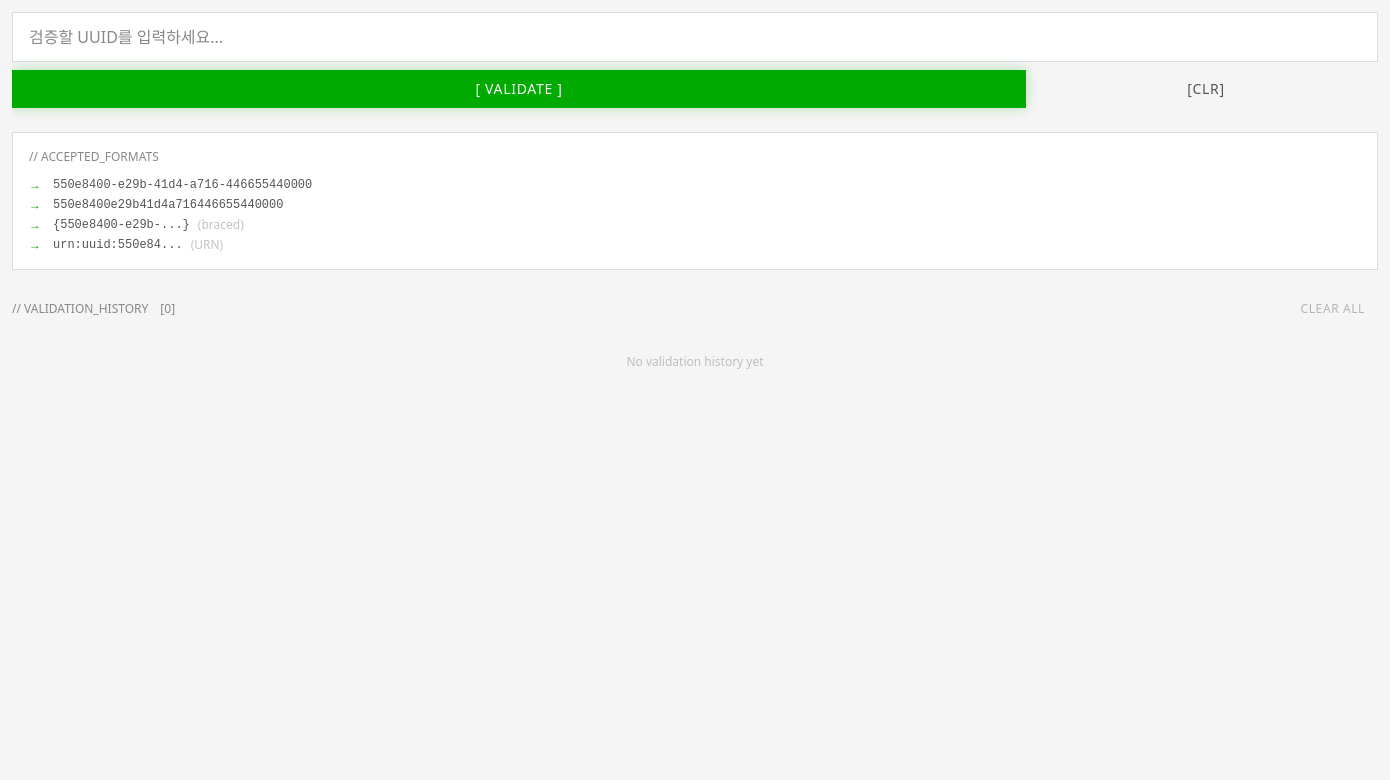
UuidValidator › 유효하지 않은 UUID 입력 후 검증 시 [INVALID] 상태를 표시해야 함
The width and height of the screenshot is (1390, 780).
Type "invalid-uuid" into the field with test id "uuid-input". click: (695, 37)
box: x1=12 y1=12 x2=1378 y2=62
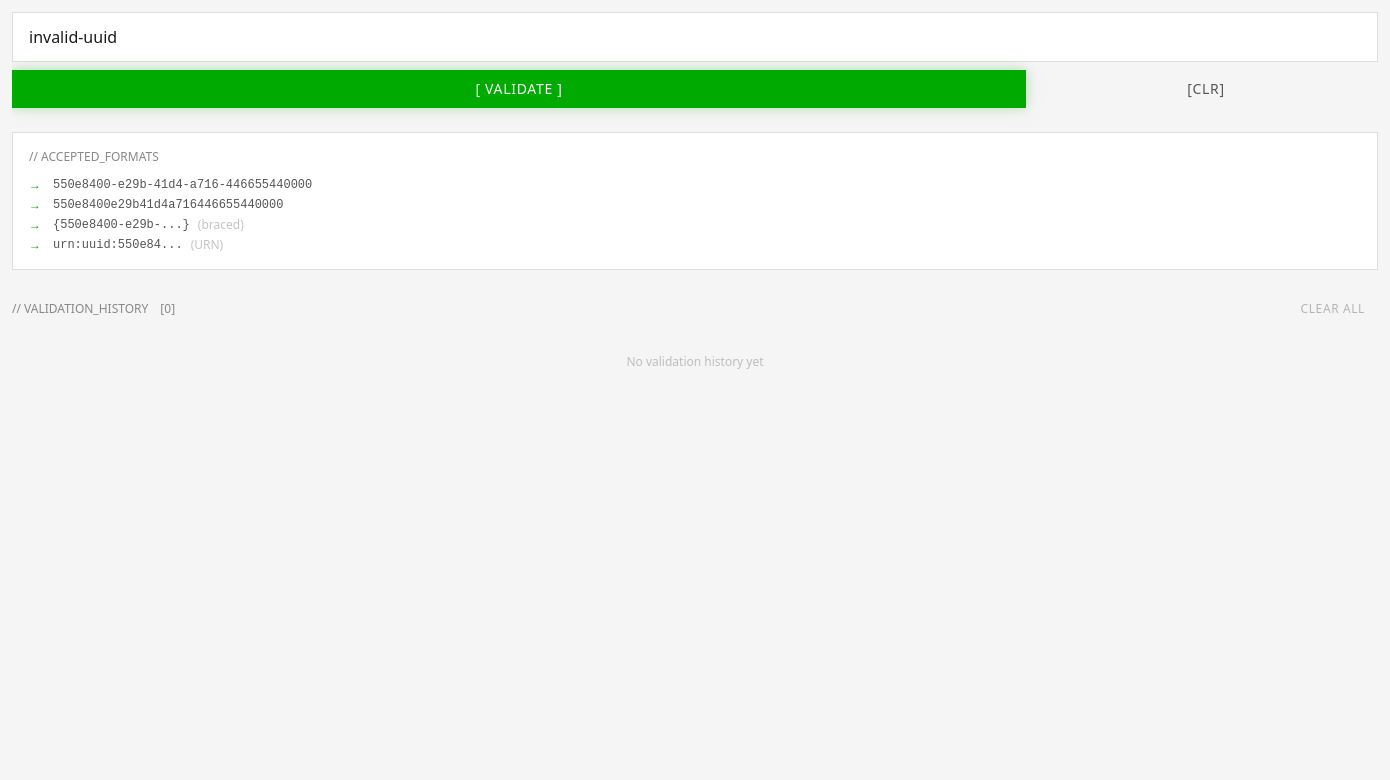
Enter 키로 검증 실행
Press Enter in the field with test id "uuid-input", box x1=12 y1=12 x2=1378 y2=62
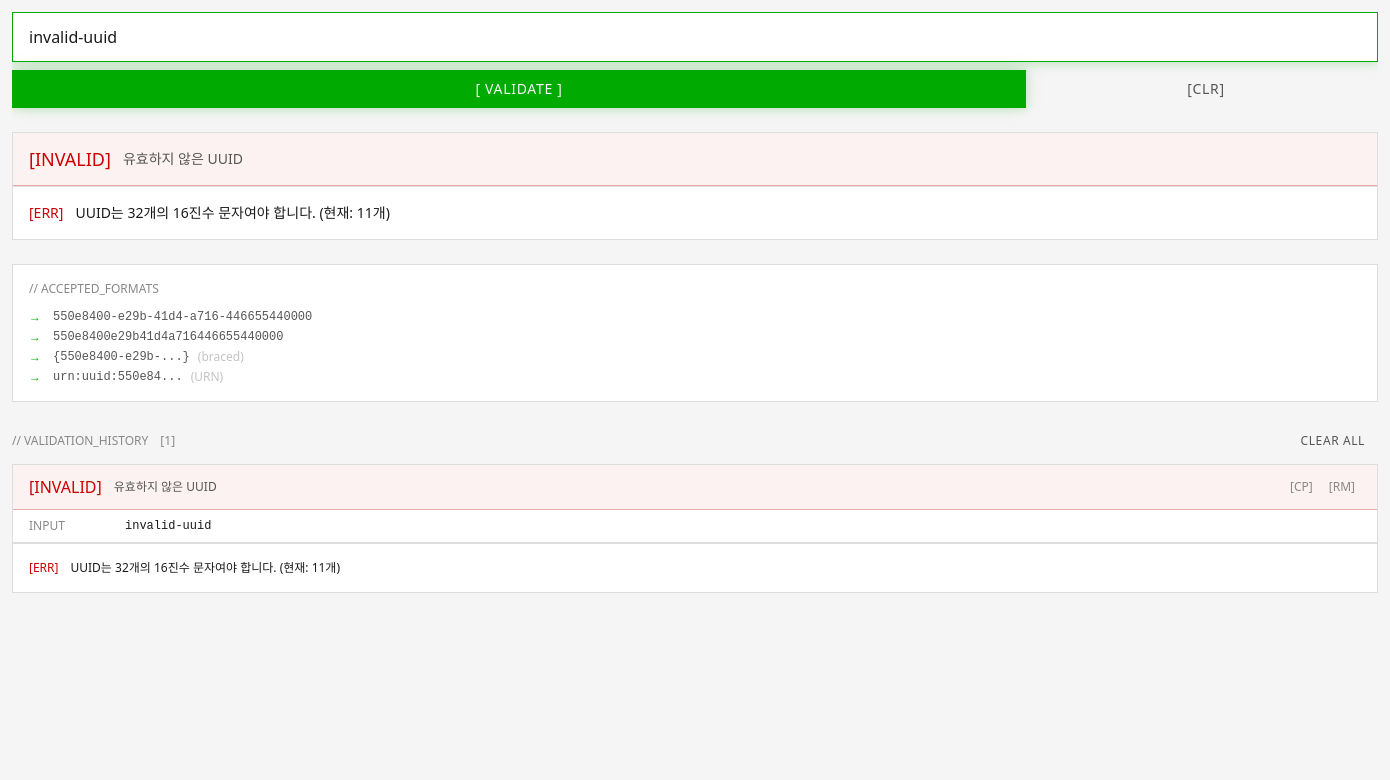
Expected: the element with test id "validation-result" shows "[INVALID]", x1=29 y1=147 x2=111 y2=171
